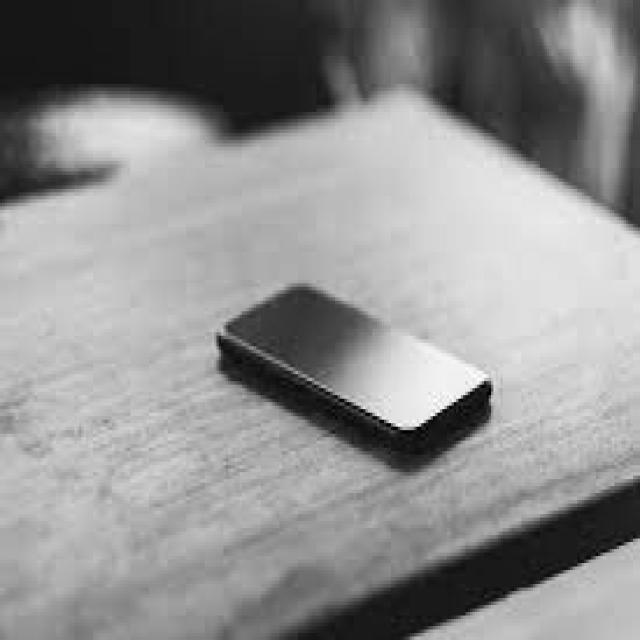No gun_phone: (219, 283, 494, 446)
